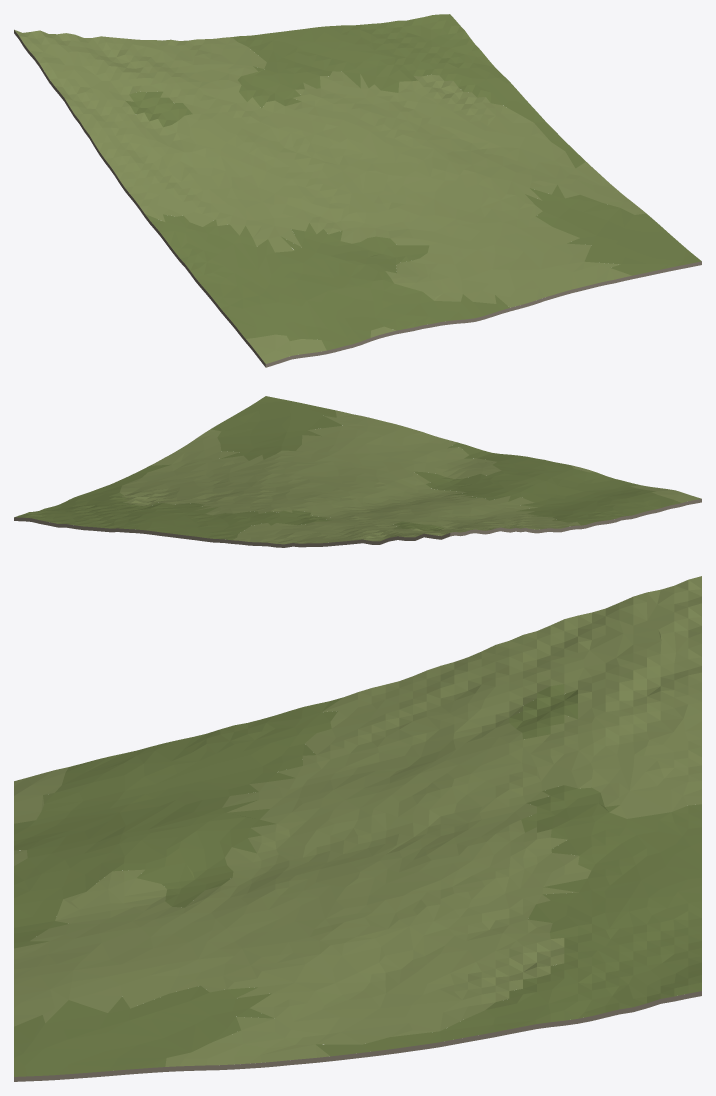
Rendered from parca_+7_-8-uzak.glb.
3 renders of one model, top to bottom at view 1: azimuth 30°, elevation 25°; view 2: azimuth 150°, elevation 25°; view 3: azimuth 270°, elevation 25°, orthographic. The views are drawn at different scales.
Parts seen in each view (by area): view 1: parca_+7_-8_arazi_uzak; view 2: parca_+7_-8_arazi_uzak; view 3: parca_+7_-8_arazi_uzak.
Boxes of the visible parts, box(x1,y1,x2,y2) form: parca_+7_-8_arazi_uzak: box(14, 14, 701, 367); parca_+7_-8_arazi_uzak: box(14, 396, 701, 547); parca_+7_-8_arazi_uzak: box(14, 576, 701, 1081).
Bounding box in the file's own units: 1000 × 349 × 1000.
